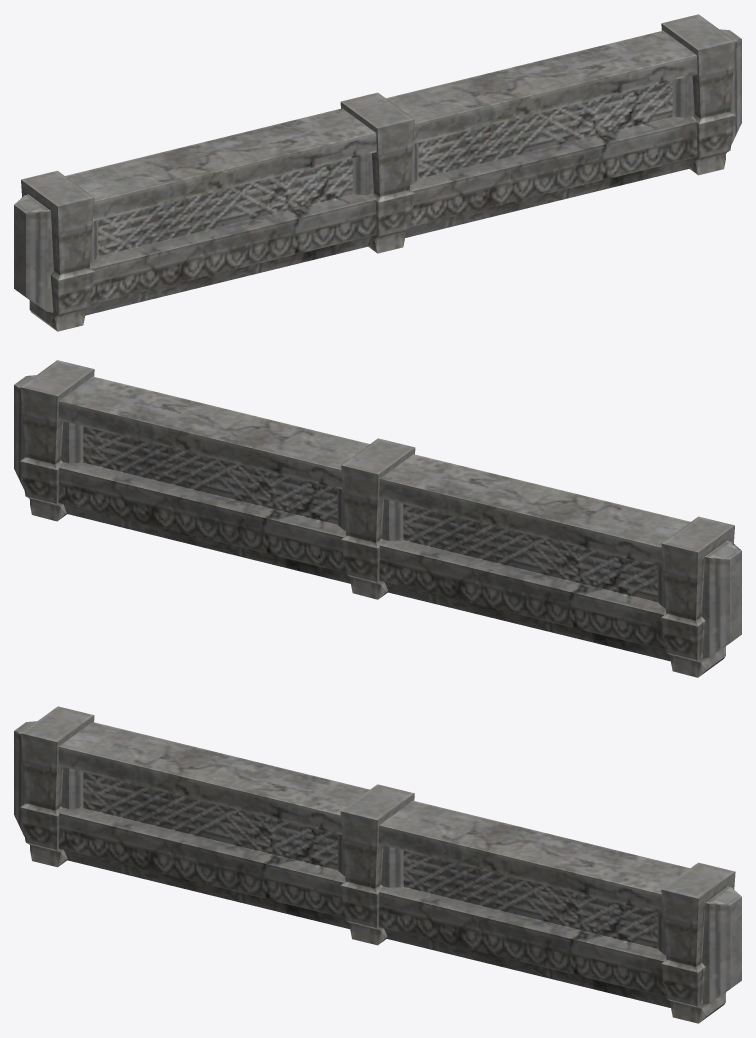
The model's file is SM_EN_2010_shilangan02.FBX.
The picture shows the model from 3 angles, top to bottom: view 1: azimuth 30°, elevation 25°; view 2: azimuth 150°, elevation 25°; view 3: azimuth 330°, elevation 25°; orthographic projection.
Visible parts, largest first — view 1: SM_EN_2010_shilangan02; view 2: SM_EN_2010_shilangan02; view 3: SM_EN_2010_shilangan02.
Part boxes in pixels (box(x1,y1,x2,y2)): SM_EN_2010_shilangan02: box(14, 14, 741, 331); SM_EN_2010_shilangan02: box(14, 360, 741, 677); SM_EN_2010_shilangan02: box(14, 706, 741, 1023).
Size of the model in its own units: 361 by 62.97 by 33.22.
